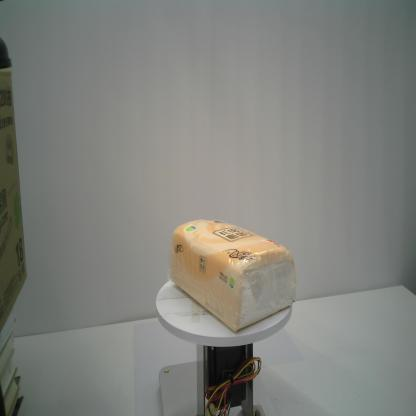Tissue: (168, 219, 296, 332)
